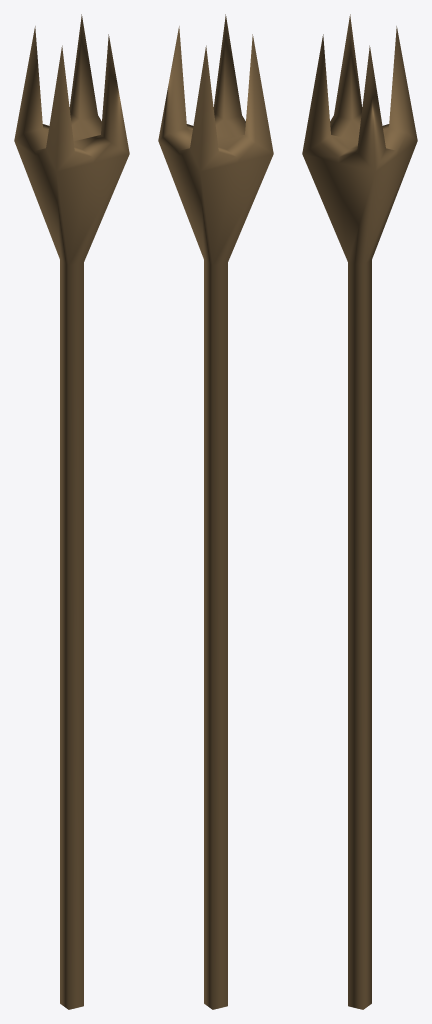
File: Torch.glb
3 views of the same model, side by side, from view 1: azimuth 30°, elevation 25°; view 2: azimuth 210°, elevation 25°; view 3: azimuth 330°, elevation 25° (orthographic).
Parts seen in each view (by area): view 1: Cylinder; view 2: Cylinder; view 3: Cylinder.
Boxes of the visible parts, bbox=[...] form: Cylinder: bbox=[14, 14, 129, 1009]; Cylinder: bbox=[158, 14, 273, 1009]; Cylinder: bbox=[302, 14, 417, 1009].
Bounding box in the file's own units: 0.0911 × 1.16 × 0.0911.
